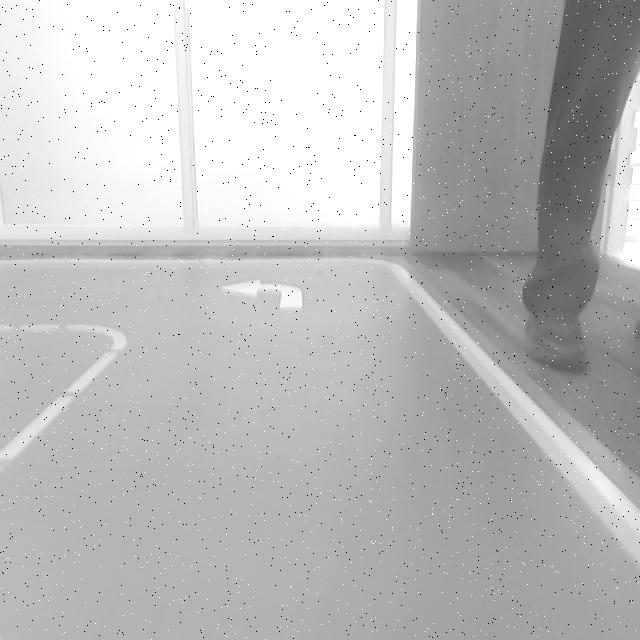left_lane: (1, 343, 127, 476)
right_lane: (393, 264, 640, 567)
